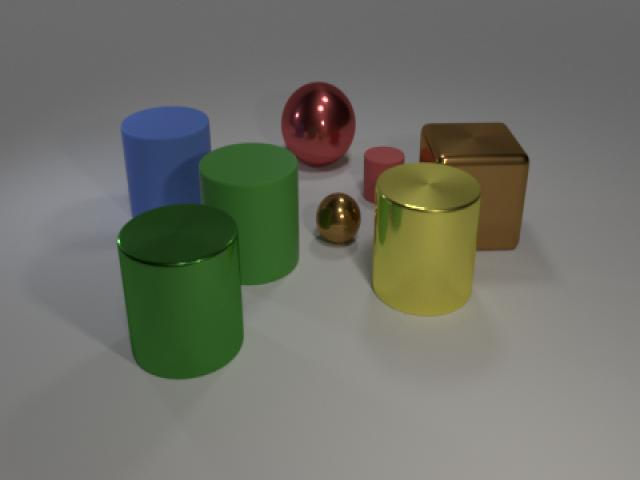cylinder: (103, 195, 258, 385), (368, 154, 485, 319), (192, 132, 304, 292), (114, 96, 216, 230), (360, 141, 408, 205)
round ball: (276, 77, 357, 169), (313, 192, 364, 252)
